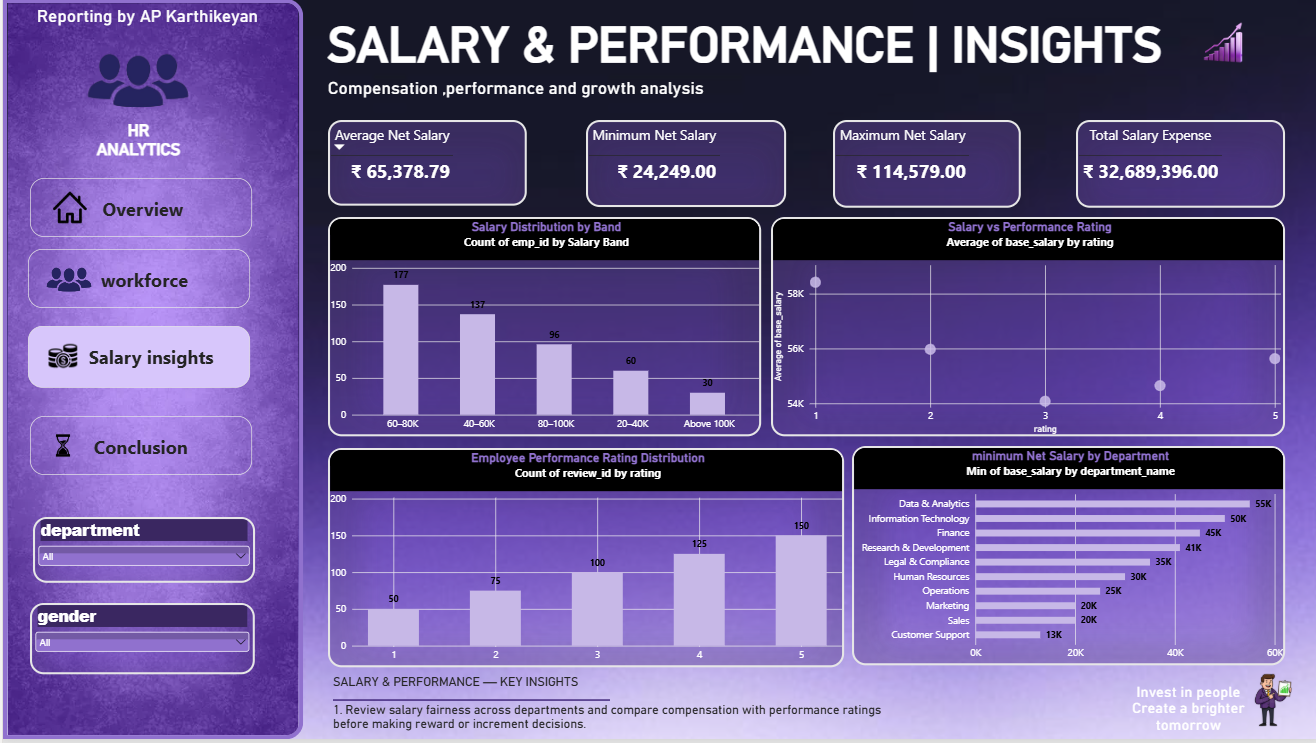

The page's visual inventory and layout, read from the dashboard file:
{"tool":"powerbi","page":{"name":" Page 3","canvas":[1920,1080],"ordinal":2},"visuals":[{"type":"image","box":[0,0,437.7,1079.6],"z":0},{"type":"textbox","title":"HR ANALYTICS","box":[124,178,147.4,64.2],"z":1000},{"type":"textbox","title":"SALARY & PERFORMANCE | INSIGHTS","box":[401.2,24.8,1361.2,87.5],"z":2000},{"type":"image","box":[108,27.7,180.9,175.1],"z":3000},{"type":"textbox","box":[39.4,261.2,323.9,86.1],"z":4000},{"type":"image","box":[67.1,261.2,61.3,86.1],"z":5000},{"type":"textbox","box":[36.5,364.7,323.9,86.1],"z":6000},{"type":"textbox","box":[39.4,608.4,323.9,86.1],"z":7000},{"type":"textbox","box":[36.5,477.1,323.9,90.5],"z":8000},{"type":"image","box":[56.9,366.2,80.2,83.2],"z":9000},{"type":"image","box":[56.9,478.5,61.3,86.1],"z":10000},{"type":"image","box":[56.9,608.4,61.3,86.1],"z":11000},{"type":"slicer","fields":{"Values":["hr_analytics employees.gender"]},"box":[39.4,881.2,328.3,103.6],"z":12000},{"type":"slicer","fields":{"Values":["hr_analytics departments.department_name"]},"box":[43.8,755.7,323.9,96.3],"z":13000},{"type":"textbox","title":"Compensation ,performance and growth analysis","box":[474.2,115.3,795.1,33.6],"z":14000},{"type":"image","box":[1744.9,24.8,71.5,81.7],"z":15000},{"type":"textbox","title":"Invest in people Create a brighter tomorrow","box":[1642.8,997.9,173.6,77.3],"z":16000},{"type":"image","box":[1785.8,970.2,134.2,105],"z":17000},{"type":"textbox","title":"SALARY & PERFORMANCE — KEY INSIGHTS","box":[481.5,984.8,404.1,48.1],"z":18000},{"type":"textbox","title":"1.  Review salary fairness across departments and compare compensation with performance ratings before making reward or increment decisions.","box":[481.5,1025.7,822.9,49.6],"z":19000},{"type":"textbox","title":"Reporting  by AP Karthikeyan","box":[49.6,10.2,335.6,37.9],"z":20000},{"type":"tableEx","fields":{"Values":["hr_analytics employees.Average Net Salary"]},"box":[474.2,176.5,290.3,125.5],"z":21000},{"type":"tableEx","fields":{"Values":["hr_analytics employees.Minimum Net Salary"]},"box":[850.6,176.5,291.8,126.9],"z":22000},{"type":"tableEx","fields":{"Values":["hr_analytics attendance.Maximum Net Salary"]},"box":[1210.9,176.5,274.3,128.4],"z":23000},{"type":"tableEx","fields":{"Values":["hr_analytics attendance.Total Salary Expense"]},"box":[1565.5,176.5,304.9,128.4],"z":24000},{"type":"clusteredColumnChart","title":"Salary Distribution by Band","fields":{"Category":["hr_analytics salary_history.Salary Band"],"Y":["Count(hr_analytics employees.emp_id)"]},"box":[474.2,318.1,631.7,319.5],"z":25000},{"type":"clusteredBarChart","title":"minimum Net Salary by Department","fields":{"Category":["hr_analytics departments.department_name"],"Y":["Min(hr_analytics salary_history.base_salary)"]},"box":[1238.7,652.2,631.7,319.5],"z":26000},{"type":"scatterChart","title":"Salary vs Performance Rating","fields":{"X":["hr_analytics performance_reviews.rating"],"Y":["Avg(hr_analytics salary_history.base_salary)"]},"box":[1120.5,318.1,749.9,319.5],"z":27000},{"type":"clusteredColumnChart","title":"Employee Performance Rating Distribution","fields":{"Category":["hr_analytics performance_reviews.rating"],"Y":["CountNonNull(hr_analytics performance_reviews.review_id)"]},"box":[474.2,655.1,752.8,319.5],"z":28000}]}

Visuals, with their boxes in screenshot pixels (x1, y1, x2, y2), scaled from the page's 1920x1080 canvas onto the 1316x743 screenshot:
image: l=0, t=0, r=300, b=742
"HR ANALYTICS" textbox: l=85, t=122, r=186, b=167
"SALARY & PERFORMANCE | INSIGHTS" textbox: l=275, t=17, r=1208, b=77
image: l=74, t=19, r=198, b=140
textbox: l=27, t=180, r=249, b=239
image: l=46, t=180, r=88, b=239
textbox: l=25, t=251, r=247, b=310
textbox: l=27, t=419, r=249, b=478
textbox: l=25, t=328, r=247, b=390
image: l=39, t=252, r=94, b=309
image: l=39, t=329, r=81, b=388
image: l=39, t=419, r=81, b=478
slicer - hr_analytics employees.gender: l=27, t=606, r=252, b=678
slicer - hr_analytics departments.department_name: l=30, t=520, r=252, b=586
"Compensation ,performance and growth analysis" textbox: l=325, t=79, r=870, b=102
image: l=1196, t=17, r=1245, b=73
"Invest in people Create a brighter tomorrow" textbox: l=1126, t=687, r=1245, b=740
image: l=1224, t=667, r=1315, b=740
"SALARY & PERFORMANCE — KEY INSIGHTS" textbox: l=330, t=678, r=607, b=711
"1.  Review salary fairness across departments and compare compensation with performance ratings before making reward or increment decisions." textbox: l=330, t=706, r=894, b=740
"Reporting  by AP Karthikeyan" textbox: l=34, t=7, r=264, b=33
tableEx - hr_analytics employees.Average Net Salary: l=325, t=121, r=524, b=208
tableEx - hr_analytics employees.Minimum Net Salary: l=583, t=121, r=783, b=209
tableEx - hr_analytics attendance.Maximum Net Salary: l=830, t=121, r=1018, b=210
tableEx - hr_analytics attendance.Total Salary Expense: l=1073, t=121, r=1282, b=210
"Salary Distribution by Band" clusteredColumnChart: l=325, t=219, r=758, b=439
"minimum Net Salary by Department" clusteredBarChart: l=849, t=449, r=1282, b=668
"Salary vs Performance Rating" scatterChart: l=768, t=219, r=1282, b=439
"Employee Performance Rating Distribution" clusteredColumnChart: l=325, t=451, r=841, b=670
